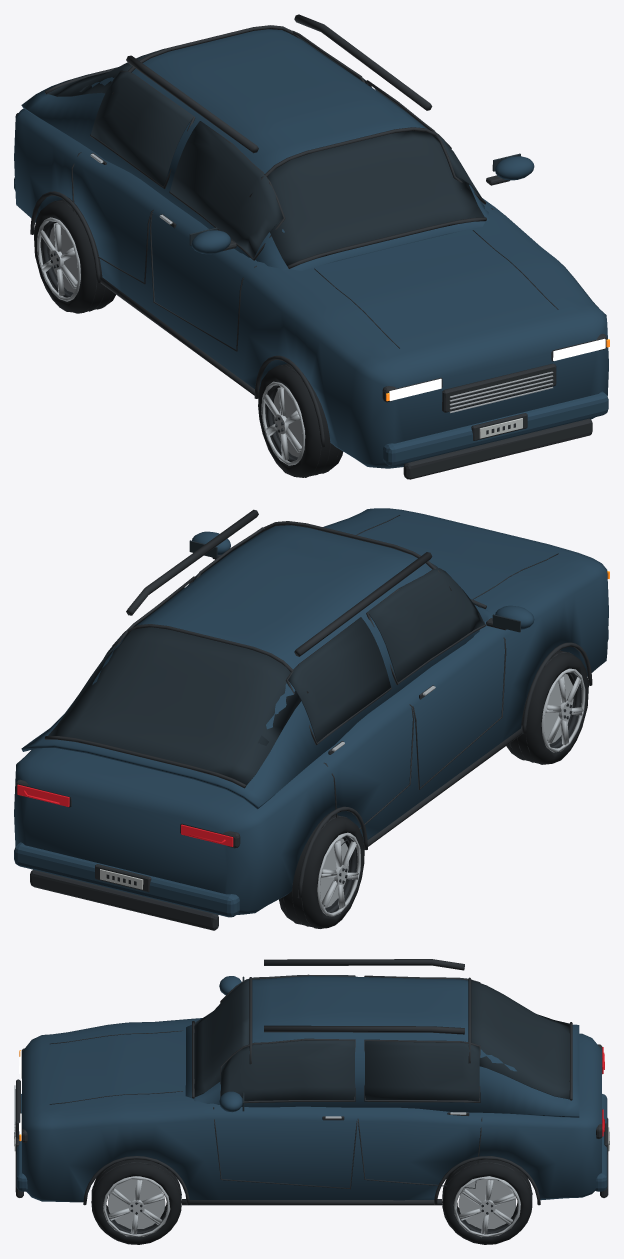
Rendered from suv_lod1.glb.
The picture shows the model from 3 angles, top to bottom: view 1: azimuth 30°, elevation 25°; view 2: azimuth 150°, elevation 25°; view 3: azimuth 270°, elevation 25°; orthographic projection. The views are drawn at different scales.
Visible parts, largest first — view 1: SM_suv_LOD1_body, SM_suv_LOD1_wheel_front_left, SM_suv_LOD1_wheel_rear_left; view 2: SM_suv_LOD1_body, SM_suv_LOD1_wheel_rear_left, SM_suv_LOD1_wheel_front_left; view 3: SM_suv_LOD1_body, SM_suv_LOD1_wheel_front_right, SM_suv_LOD1_wheel_rear_right.
Part boxes in pixels (x1,y1,x2,y2): SM_suv_LOD1_body: (14,14,609,479); SM_suv_LOD1_wheel_front_left: (258,363,343,477); SM_suv_LOD1_wheel_rear_left: (33,198,115,313); SM_suv_LOD1_body: (14,508,609,930); SM_suv_LOD1_wheel_rear_left: (279,814,364,928); SM_suv_LOD1_wheel_front_left: (506,650,588,764); SM_suv_LOD1_body: (14,959,609,1205); SM_suv_LOD1_wheel_front_right: (91,1159,181,1244); SM_suv_LOD1_wheel_rear_right: (442,1159,532,1244).
Size of the model in its own units: 2.43 by 1.76 by 4.72.
